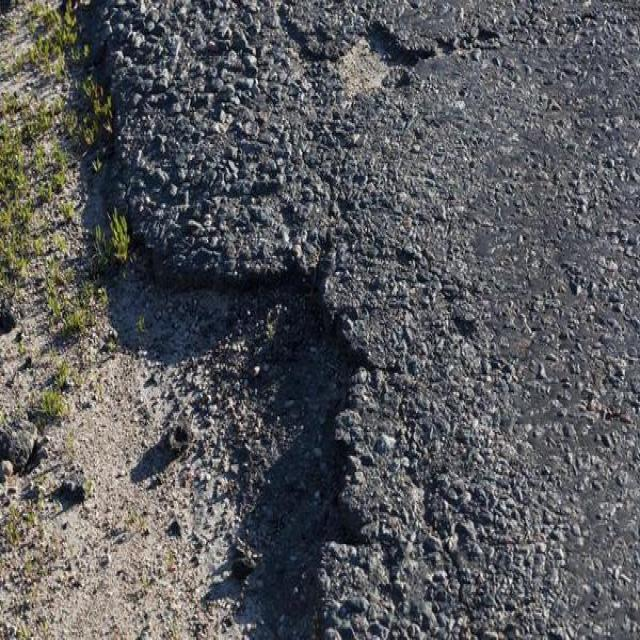road collapse: (49, 4, 471, 640)
